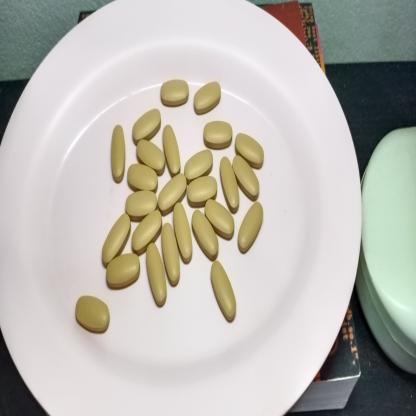VitaminB: (207, 261, 240, 329), (191, 209, 222, 266), (101, 212, 131, 266), (144, 242, 167, 312), (74, 294, 110, 338), (232, 154, 264, 203), (238, 196, 264, 255), (205, 196, 236, 245), (160, 220, 180, 290), (218, 156, 241, 214), (106, 253, 141, 291), (173, 202, 193, 268), (134, 136, 167, 175), (191, 76, 222, 116), (126, 160, 160, 196), (130, 106, 162, 144), (158, 174, 186, 214), (234, 132, 266, 166), (186, 176, 219, 208), (184, 146, 215, 179), (160, 76, 190, 110), (123, 192, 159, 220), (202, 119, 233, 150), (162, 124, 180, 176), (111, 122, 125, 184)
